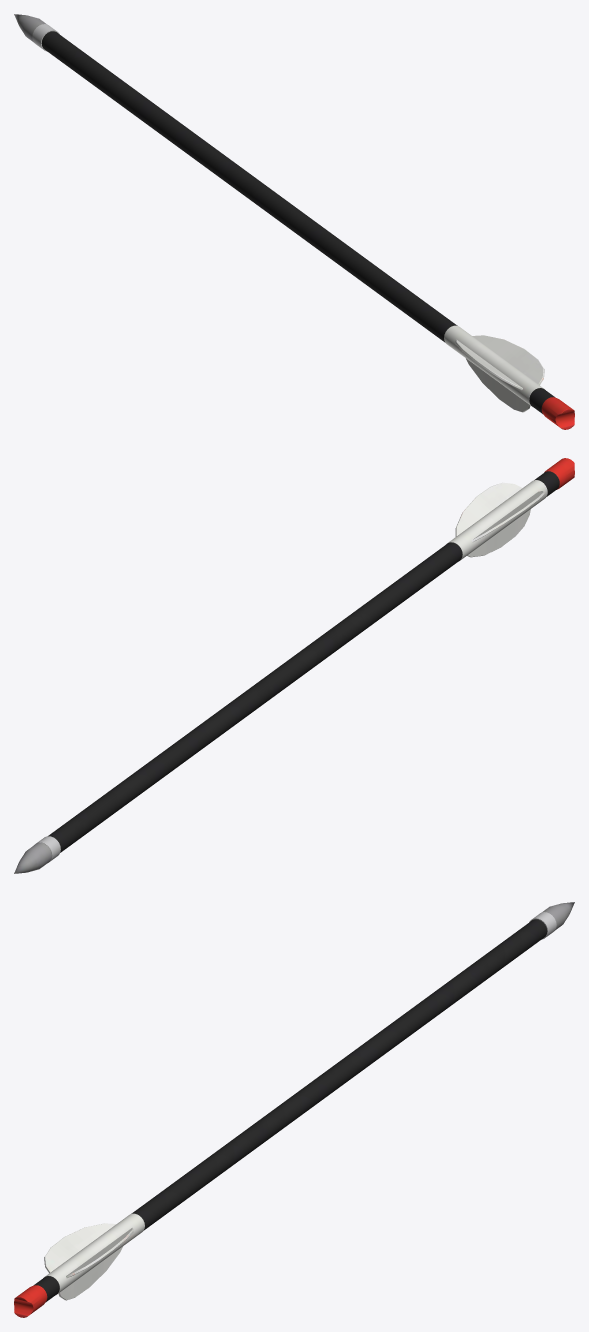
Rendered from virote_campo.glb.
The picture shows the model from 3 angles, top to bottom: view 1: azimuth 30°, elevation 25°; view 2: azimuth 150°, elevation 25°; view 3: azimuth 330°, elevation 25°; orthographic projection.
Parts seen in each view (by area): view 1: virote_campo_flecha; view 2: virote_campo_flecha; view 3: virote_campo_flecha.
Boxes of the visible parts, x1=… form: virote_campo_flecha: x1=14, y1=14, x2=574, y2=429; virote_campo_flecha: x1=14, y1=458, x2=574, y2=873; virote_campo_flecha: x1=14, y1=902, x2=574, y2=1317.
Size of the model in its own units: 0.0232 by 0.0201 by 0.45.
1 material, 1 textured.
